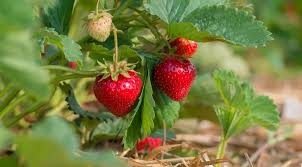ripe: (93, 59, 147, 116), (152, 55, 197, 107), (165, 28, 204, 59)
unripe: (82, 8, 113, 44)
